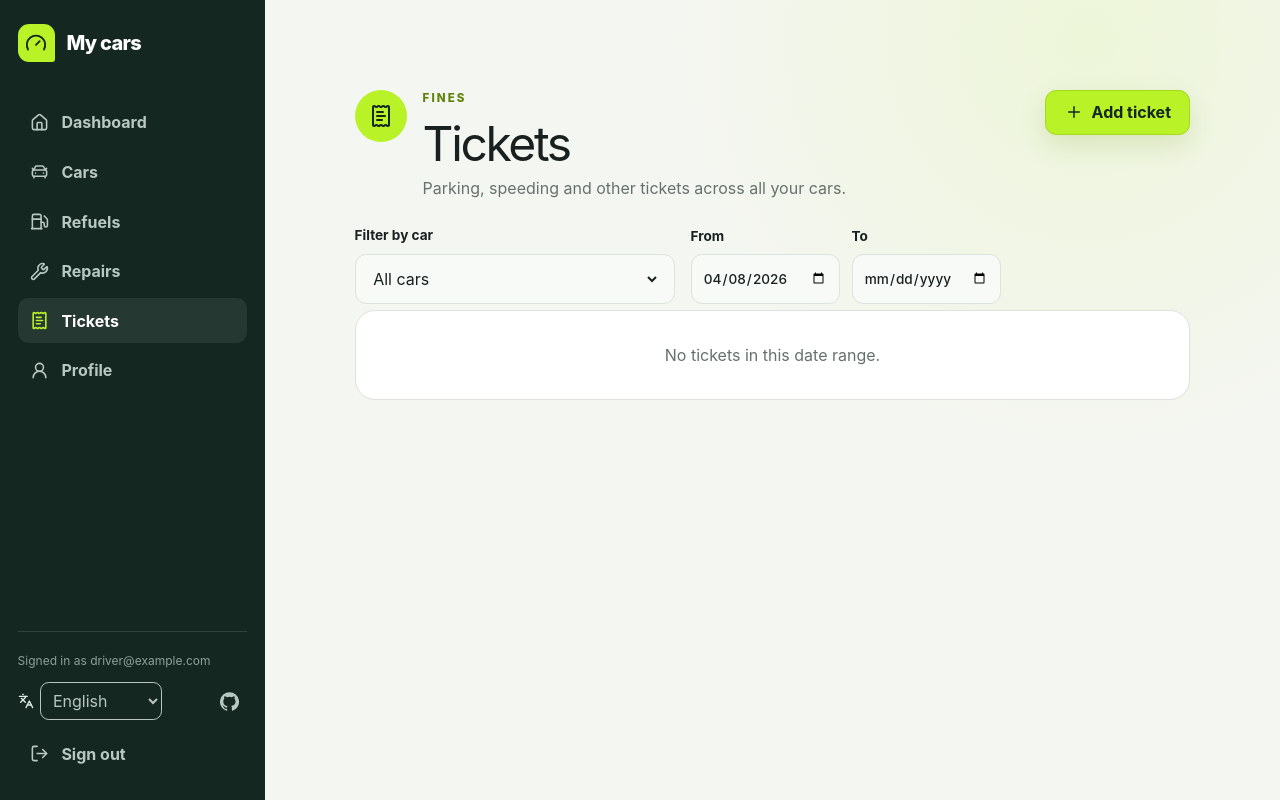
it: tickets list › says when the range holds no tickets, in both languages
Expected: the text "No tickets in this date range." is shown, [665,343,880,367]
Select "Deutsch" in the dropdown named "Language" at (101, 701), box [40,682,162,720]
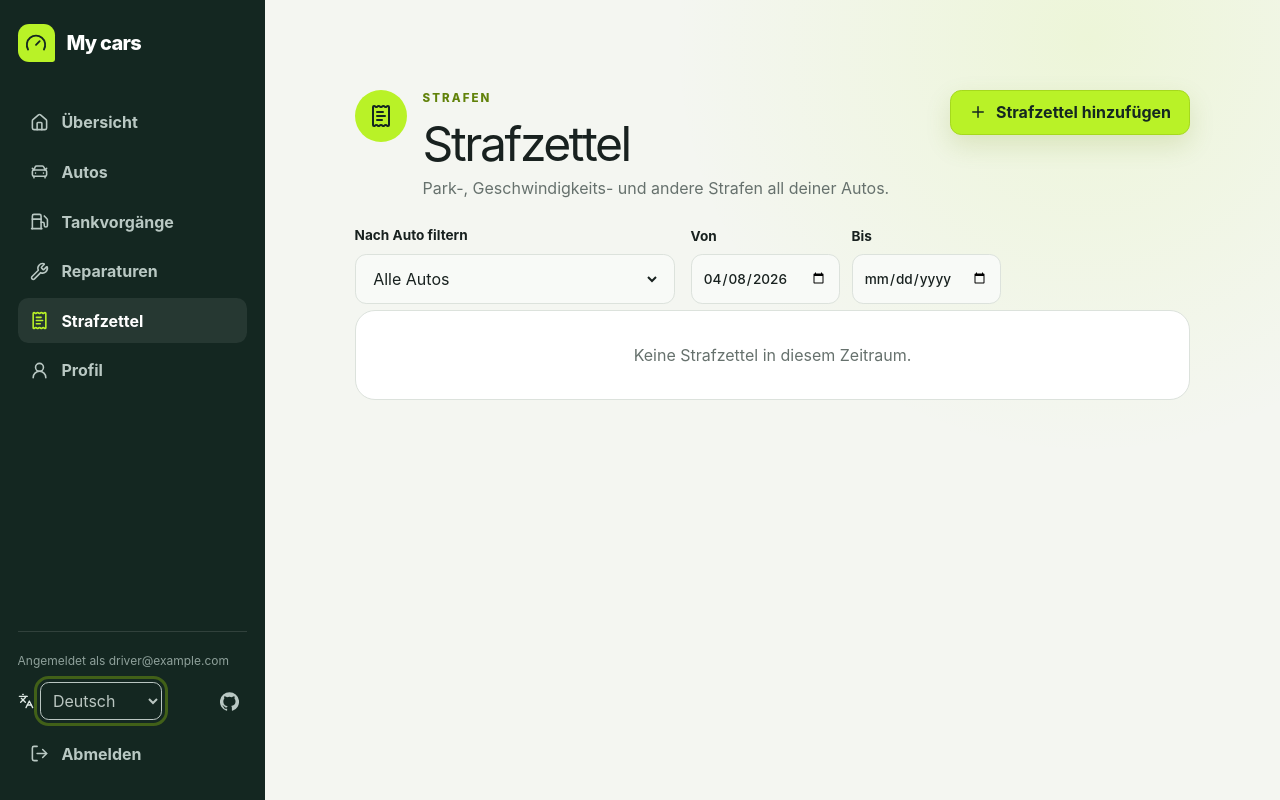
Expected: the dropdown labelled "Nach Auto filtern" is shown, [369,255,660,303]
Expected: the text "Keine Strafzettel in diesem Zeitraum." is shown, [634,343,911,367]
